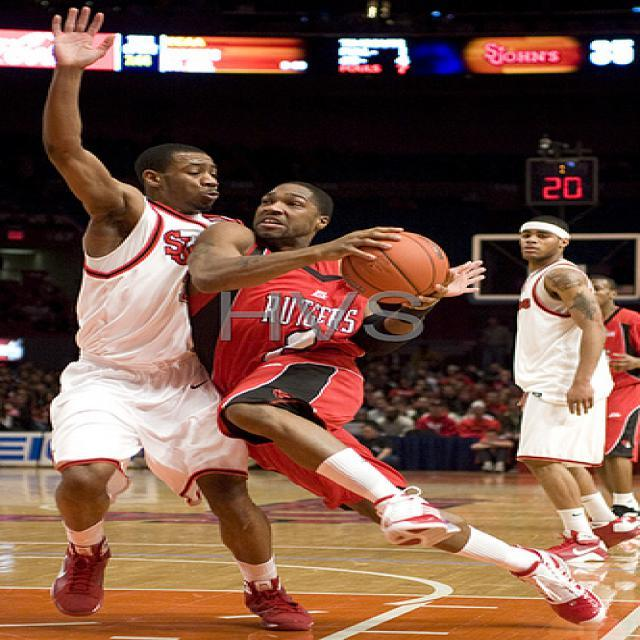basketball: (336, 229, 449, 310)
